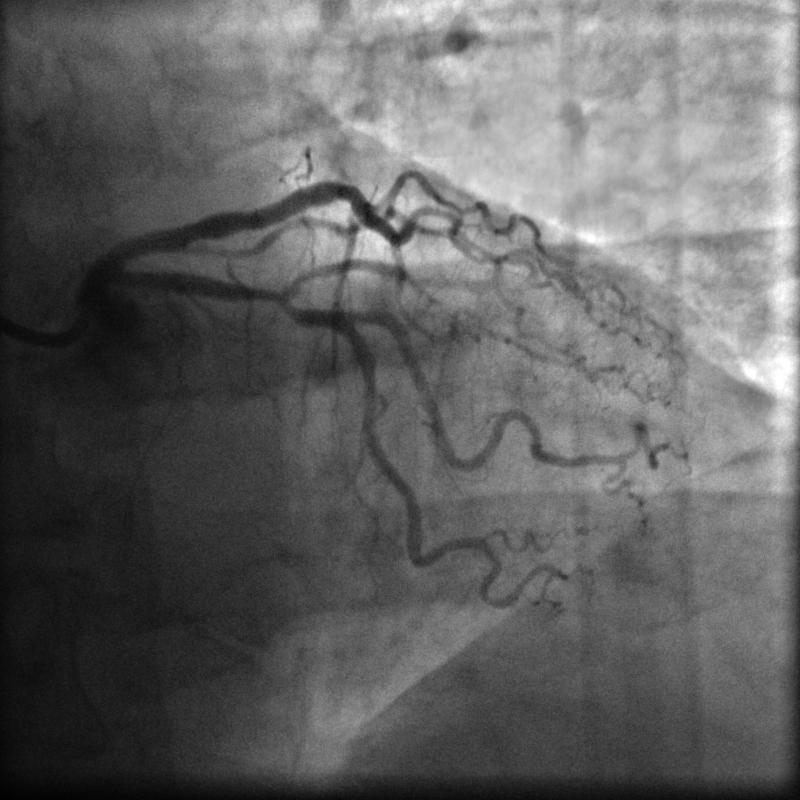Stenosis: (253, 279, 299, 306)
